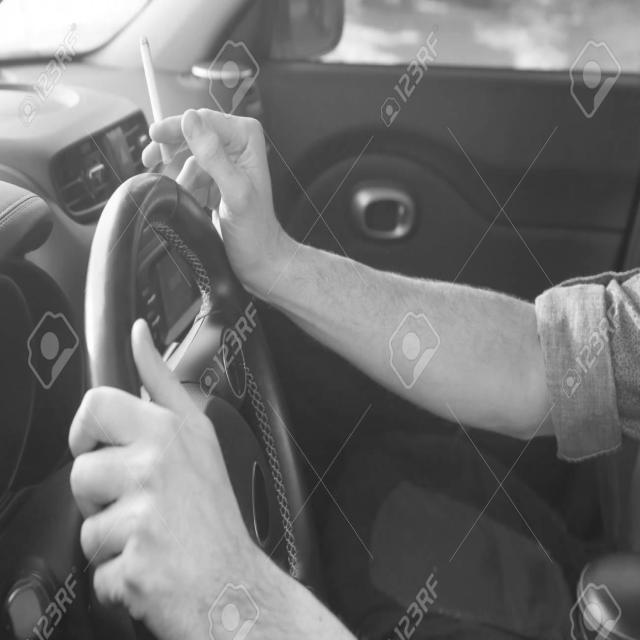Cigarette: (135, 34, 181, 163)
